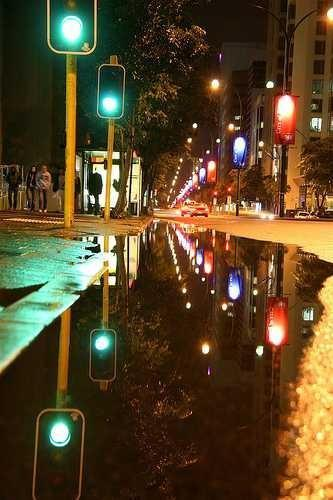2: (39, 415, 84, 500), (89, 324, 118, 385), (96, 64, 124, 116)
red traffic light: (45, 414, 80, 450), (53, 14, 90, 42), (90, 333, 118, 352), (100, 91, 121, 112)
